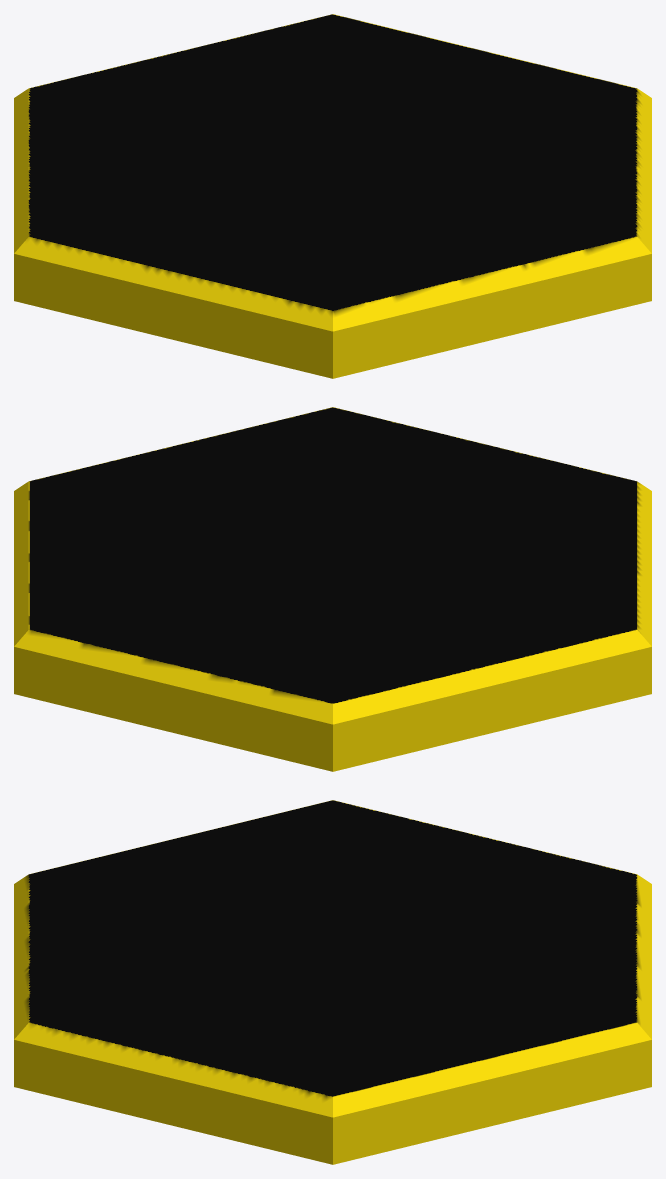
Rendered from Hexagon.obj.
The picture shows the model from 3 angles, top to bottom: view 1: azimuth 30°, elevation 25°; view 2: azimuth 150°, elevation 25°; view 3: azimuth 270°, elevation 25°; orthographic projection.
Visible parts, largest first — view 1: Circle; view 2: Circle; view 3: Circle.
Part boxes in pixels (bbox=[...]): Circle: bbox=[14, 14, 651, 378]; Circle: bbox=[14, 407, 651, 771]; Circle: bbox=[14, 800, 651, 1164].
Size of the model in its own units: 2 by 0.1816 by 1.73.
Materials: 1 (1 with a texture image).
